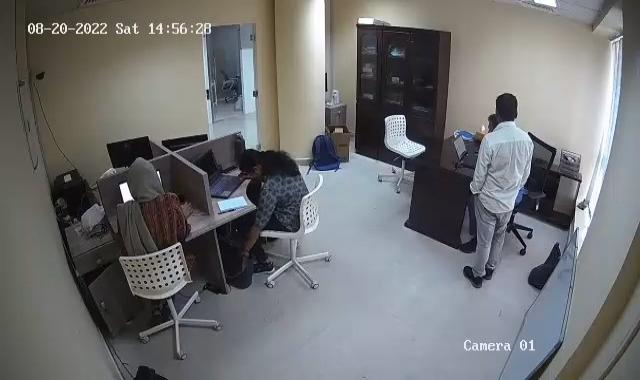no_hairnet: (125, 157, 162, 195), (493, 90, 523, 128), (240, 144, 269, 176)
